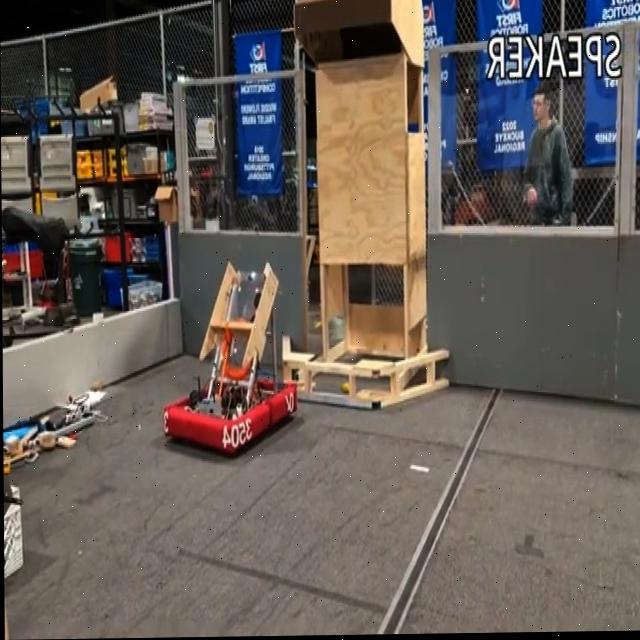robot: (162, 261, 299, 460)
